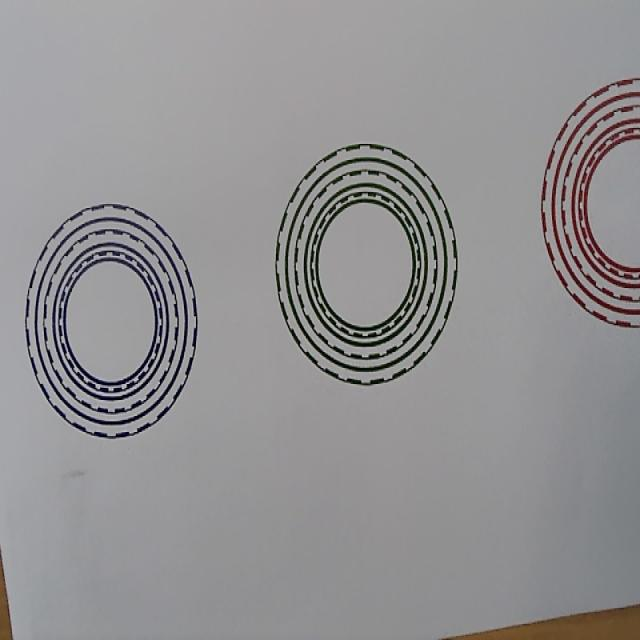b: (24, 204, 198, 439)
g: (276, 143, 457, 386)
